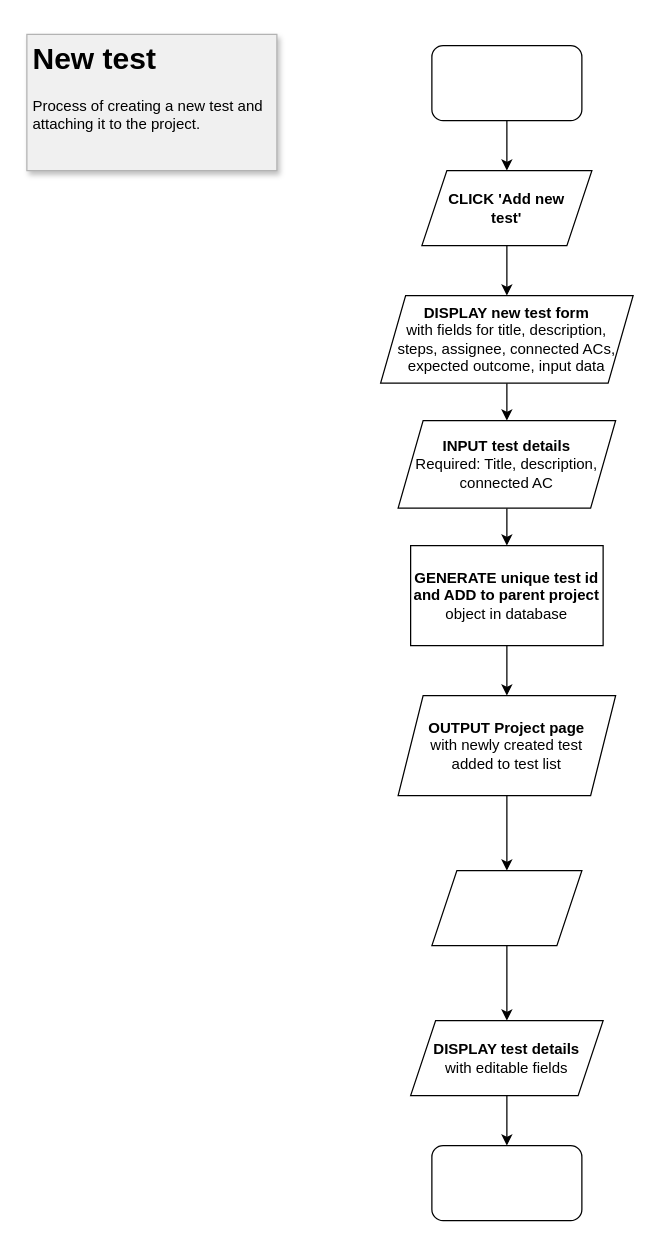
The diagram is 655 pixels wide and 1243 high, and some of its shapes have lost their labels. The centre of each missing label's shape, as x and y in pixels:
"CLICK test name on list" goes at (x=506, y=907).
"END" goes at (x=506, y=1182).
"START" goes at (x=506, y=82).
